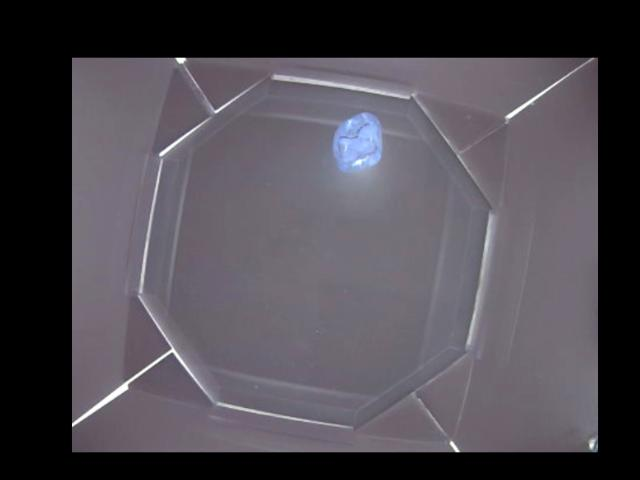Pebble: (333, 113, 382, 174)
